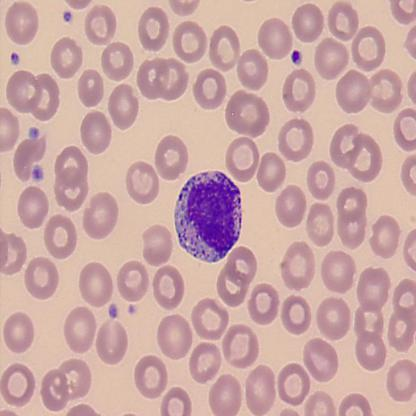Myelocyte: (176, 170, 246, 264)
